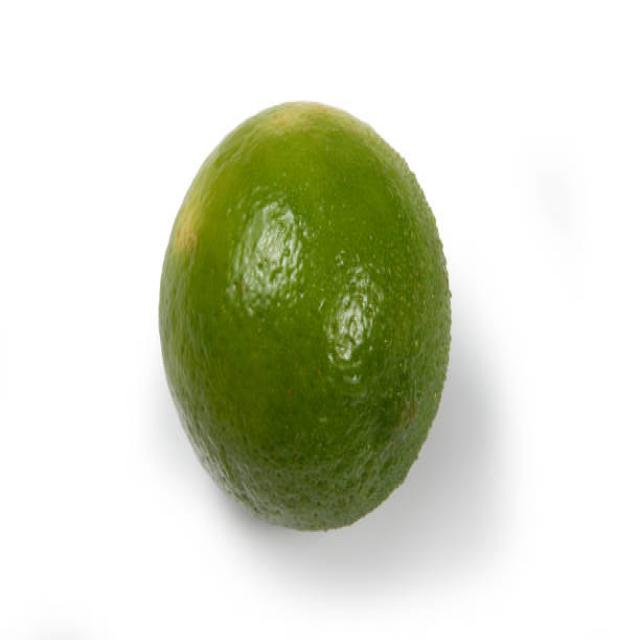Unripe: (161, 100, 452, 532)
